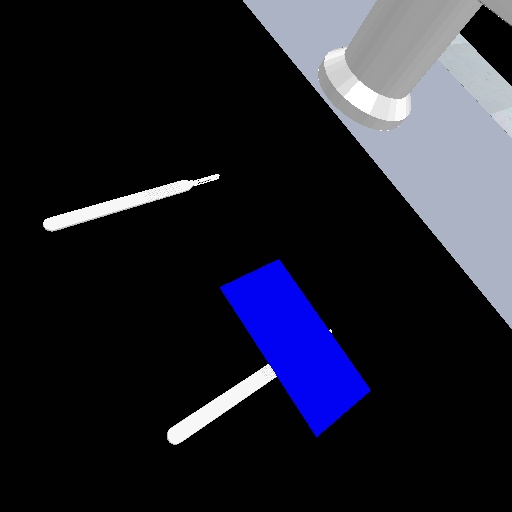bisturi: (41, 171, 223, 234), (164, 362, 282, 447)
